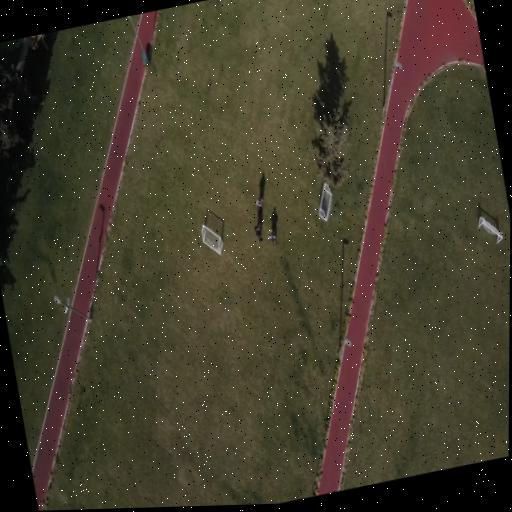person: (269, 230, 276, 245), (255, 226, 262, 241), (256, 198, 262, 210)
